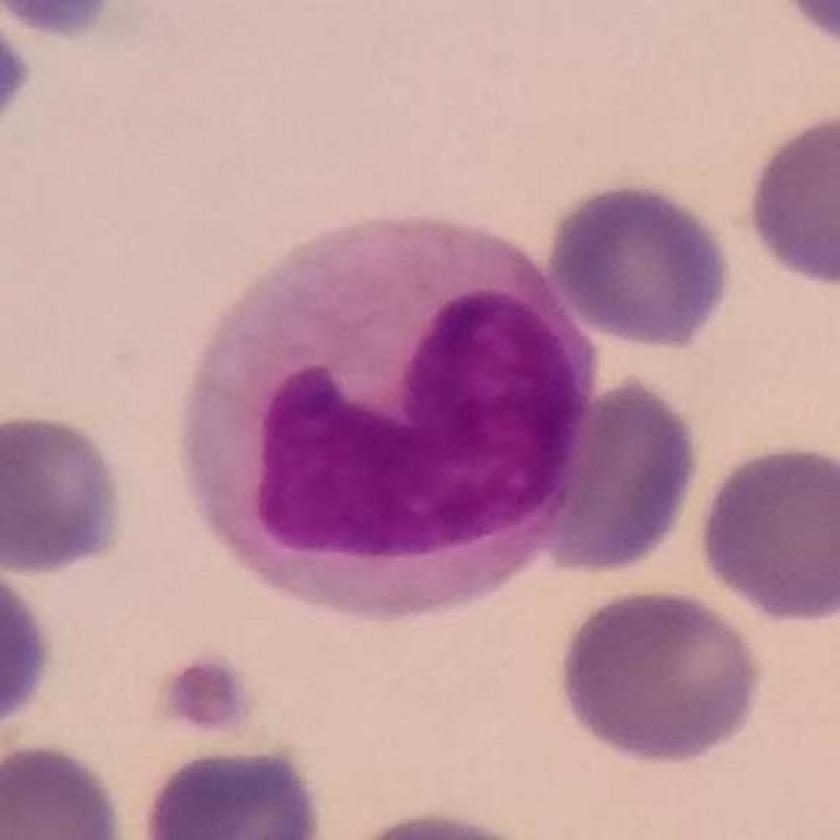monocyte: (177, 196, 603, 618)
